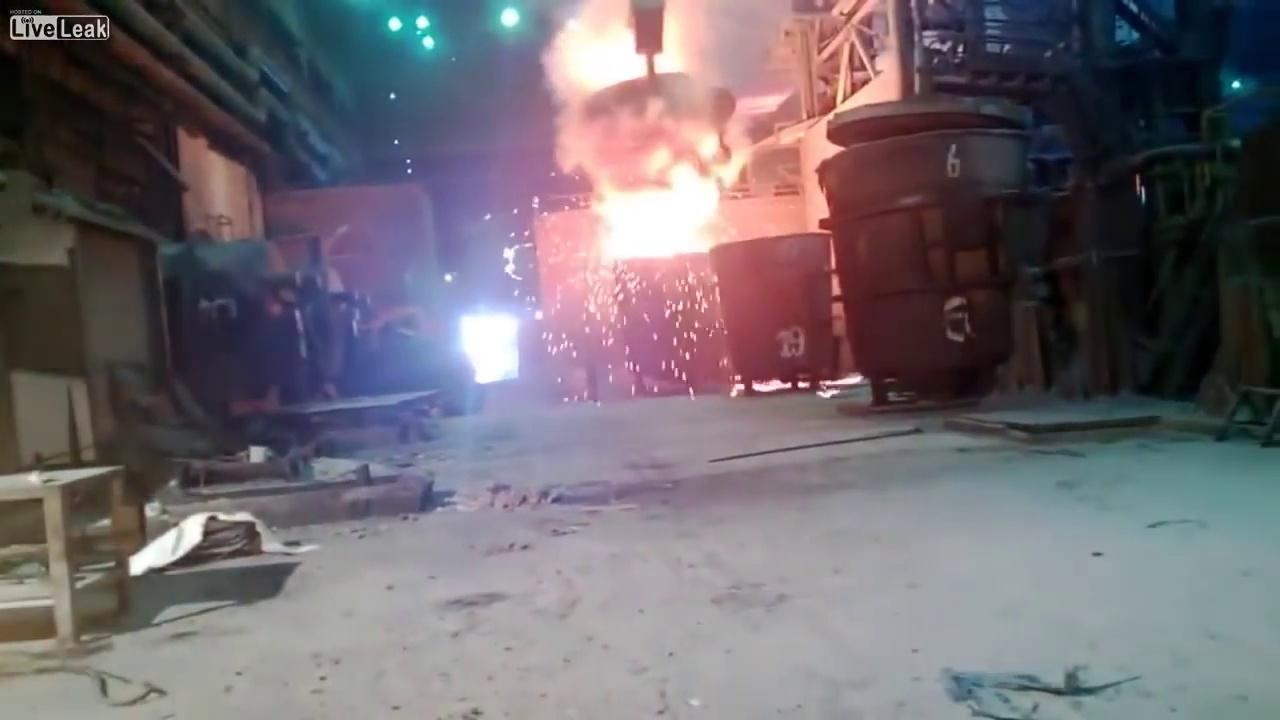fire: (522, 1, 817, 343)
